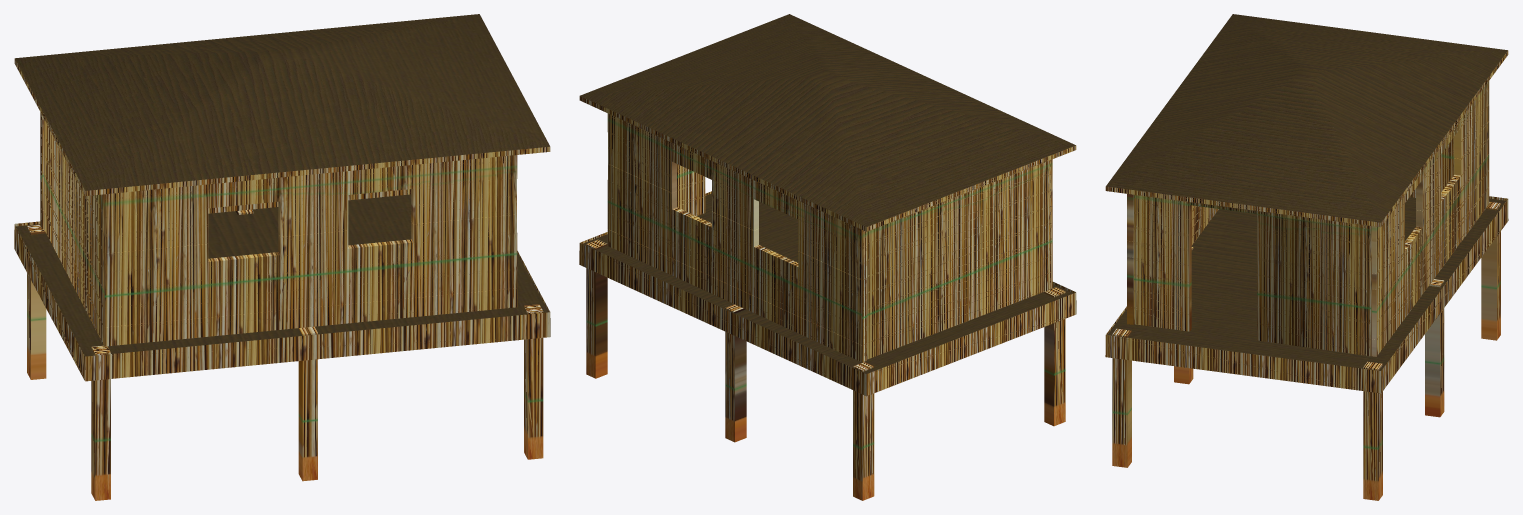
Rendered from house.gltf.
3 renders of one model, left to right at view 1: azimuth 30°, elevation 25°; view 2: azimuth 150°, elevation 25°; view 3: azimuth 270°, elevation 25°, orthographic. The views are drawn at different scales.
Parts seen in each view (by area): view 1: house; view 2: house; view 3: house.
Boxes of the visible parts, x1,y1,x2,y2 form: house: (14,14,550,500); house: (579,14,1076,500); house: (1105,14,1508,500).
Bounding box in the file's own units: 35.47 × 25.56 × 28.91.
2 materials, 2 textured.
